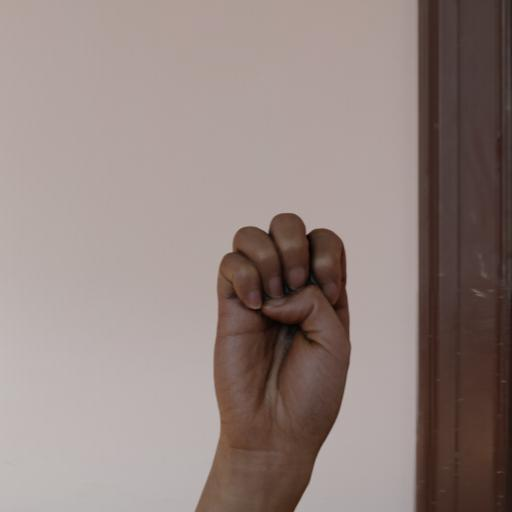E: (197, 204, 366, 470)
